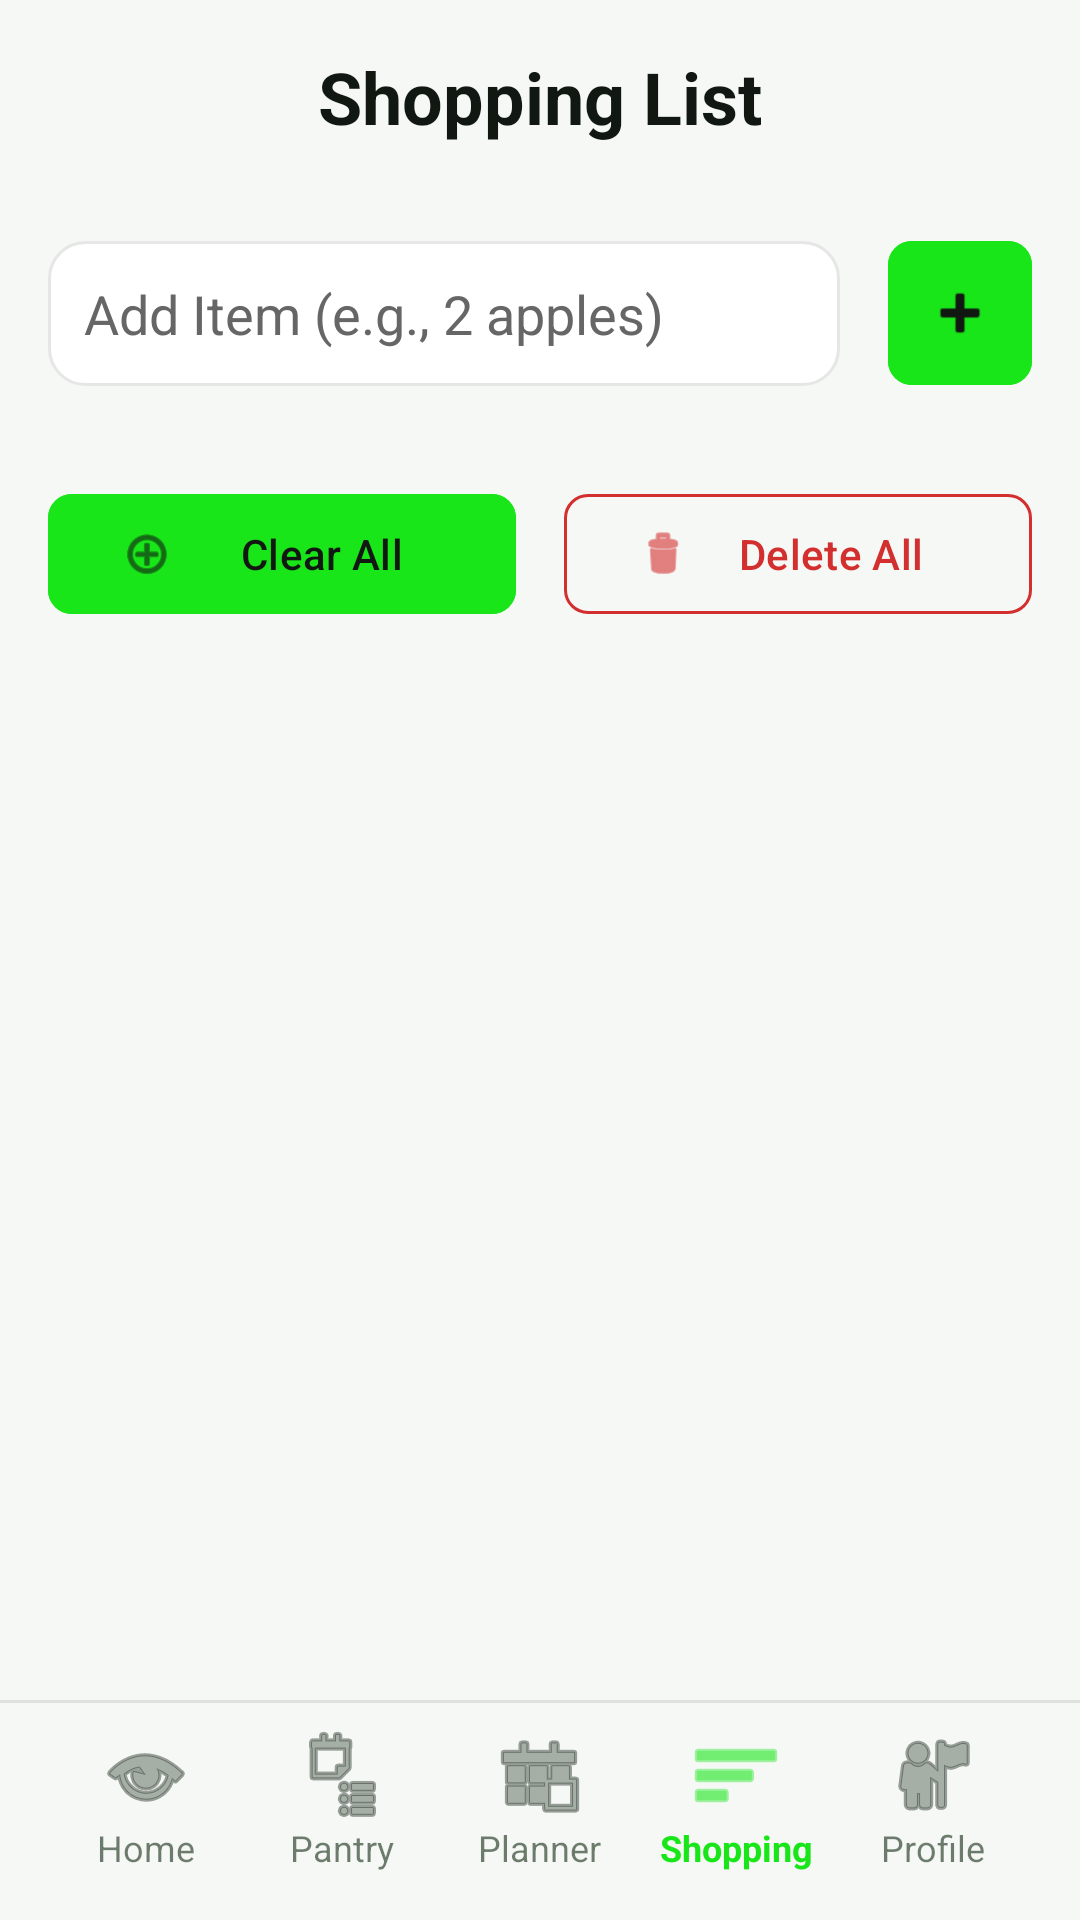

Named icons in this screenshot (1080px×1920px) and their bounding boxes, bbox=(x1, y1, x2, y2):
agenda: bbox=(309, 1732, 376, 1817)
sort by size: bbox=(695, 1749, 777, 1802)
view: bbox=(107, 1753, 185, 1802)
